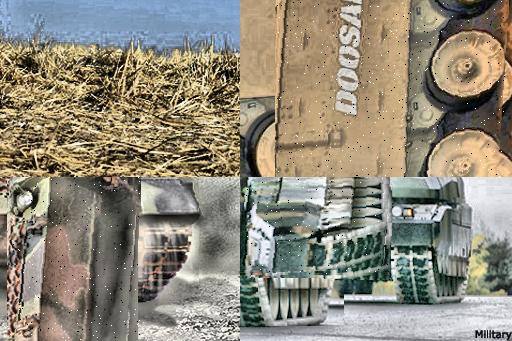tanks: (276, 1, 504, 178), (9, 178, 141, 341), (337, 178, 474, 305), (241, 178, 390, 275)
